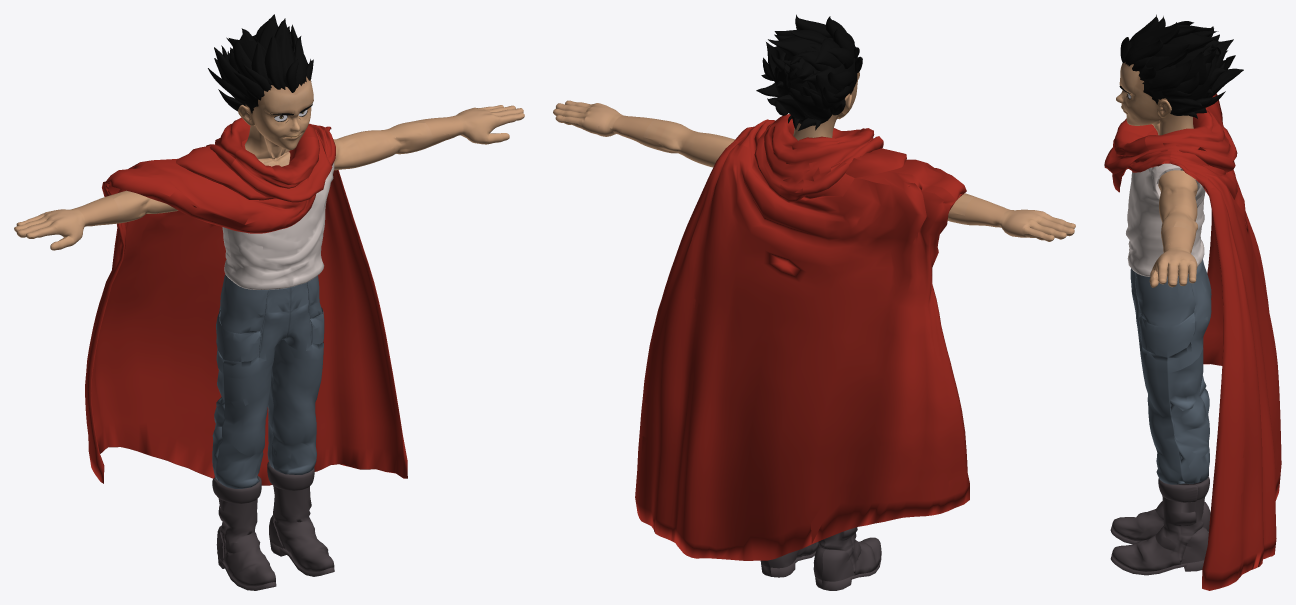
Rendered from akira.glb.
3 views of the same model, side by side, from view 1: azimuth 30°, elevation 25°; view 2: azimuth 150°, elevation 25°; view 3: azimuth 270°, elevation 25° (orthographic). The views are drawn at different scales.
Parts seen in each view (by area): view 1: Object002_+cape2.cape2_0, Object010_jeans_0, Object007_arms_0, Object008_boots1_0, Object006_Shirt_0, Object009_hair_0, Object001_+cape2.cape2_0, Object004_Face_0; view 2: Object002_+cape2.cape2_0, Object007_arms_0, Object009_hair_0, Object001_+cape2.cape2_0, Object008_boots1_0, Object004_Face_0; view 3: Object002_+cape2.cape2_0, Object010_jeans_0, Object009_hair_0, Object008_boots1_0, Object001_+cape2.cape2_0, Object007_arms_0, Object006_Shirt_0, Object004_Face_0, Object012_eyelight_0.
Part boxes in pixels (box(x1,y1,x2,y2)): Object002_+cape2.cape2_0: box(85, 123, 407, 485); Object010_jeans_0: box(212, 274, 324, 488); Object007_arms_0: box(14, 105, 524, 250); Object008_boots1_0: box(212, 462, 334, 590); Object006_Shirt_0: box(222, 162, 334, 289); Object009_hair_0: box(208, 14, 313, 111); Object001_+cape2.cape2_0: box(206, 117, 332, 202); Object004_Face_0: box(238, 76, 313, 166); Object002_+cape2.cape2_0: box(635, 119, 969, 560); Object007_arms_0: box(553, 100, 1075, 241); Object009_hair_0: box(756, 14, 862, 130); Object001_+cape2.cape2_0: box(754, 114, 883, 202); Object008_boots1_0: box(760, 527, 881, 590); Object004_Face_0: box(793, 72, 859, 140); Object002_+cape2.cape2_0: box(1112, 93, 1281, 590); Object010_jeans_0: box(1130, 259, 1211, 484); Object009_hair_0: box(1120, 14, 1243, 118); Object008_boots1_0: box(1110, 476, 1210, 575); Object001_+cape2.cape2_0: box(1104, 110, 1237, 174); Object007_arms_0: box(1149, 170, 1197, 287); Object006_Shirt_0: box(1126, 163, 1205, 276); Object004_Face_0: box(1116, 62, 1193, 135); Object012_eyelight_0: box(1134, 51, 1187, 115).
Size of the model in its own units: 3.73 by 3.82 by 1.14.
Materials: 9 (9 with a texture image).
